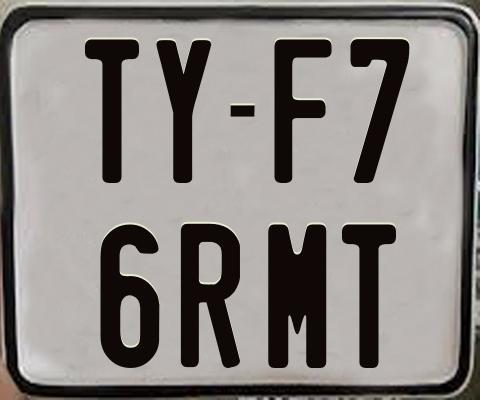6: (99, 224, 163, 373)
7: (350, 37, 412, 182)
F: (273, 37, 335, 187)
M: (265, 224, 324, 373)
R: (178, 221, 238, 367)
T: (341, 224, 397, 373), (84, 38, 141, 184)
Y: (154, 39, 209, 182)
